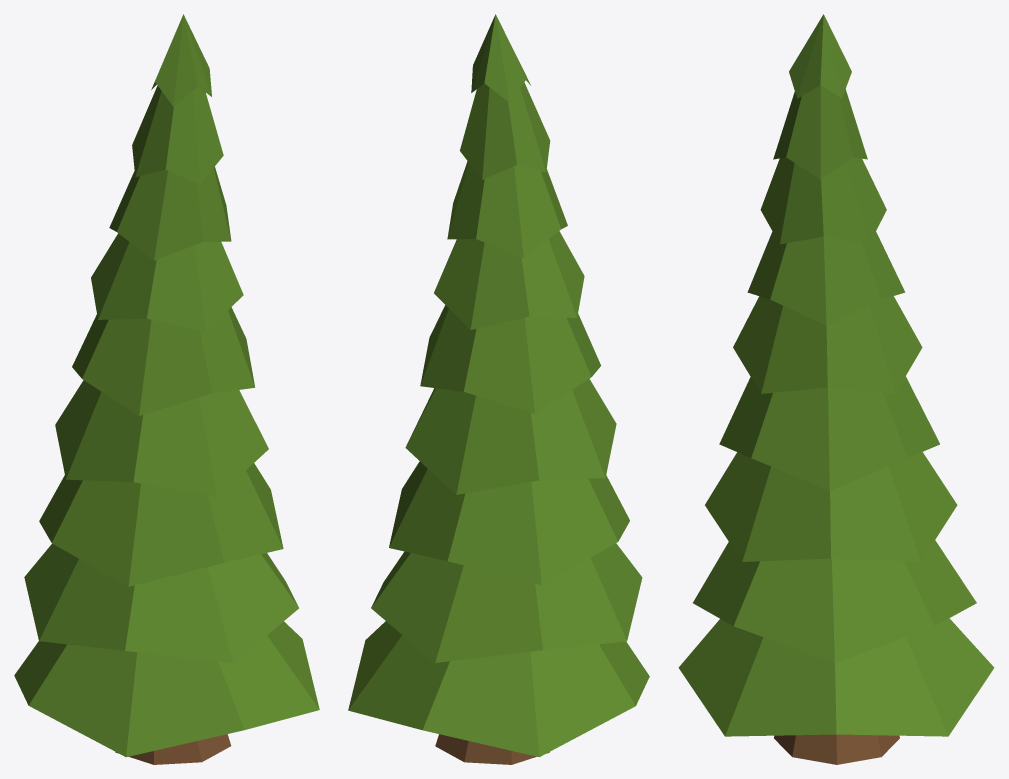
Rendered from Pine01.fbx.
3 views of the same model, side by side, from view 1: azimuth 30°, elevation 25°; view 2: azimuth 150°, elevation 25°; view 3: azimuth 270°, elevation 25° (orthographic).
Visible parts, largest first — view 1: Pine; view 2: Pine; view 3: Pine.
Boxes of the visible parts, x1,y1,x2,y2 form: Pine: (14, 14, 319, 764); Pine: (348, 14, 649, 764); Pine: (678, 14, 994, 764).
Bounding box in the file's own units: 200 × 200 × 508.
